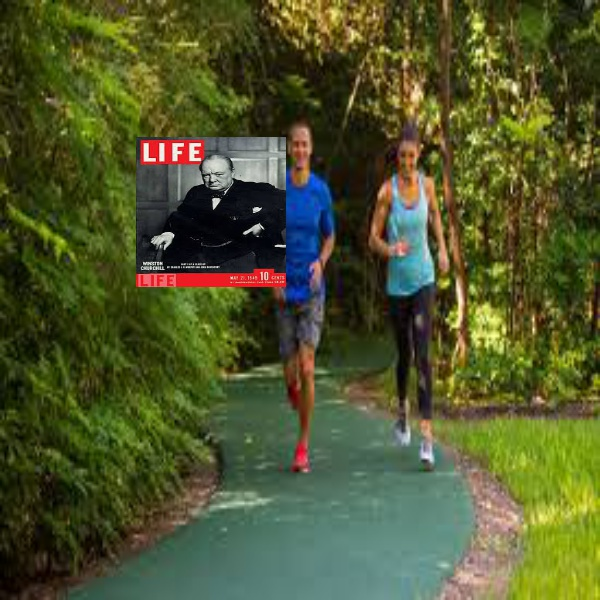time_cover: (134, 130, 291, 292)
